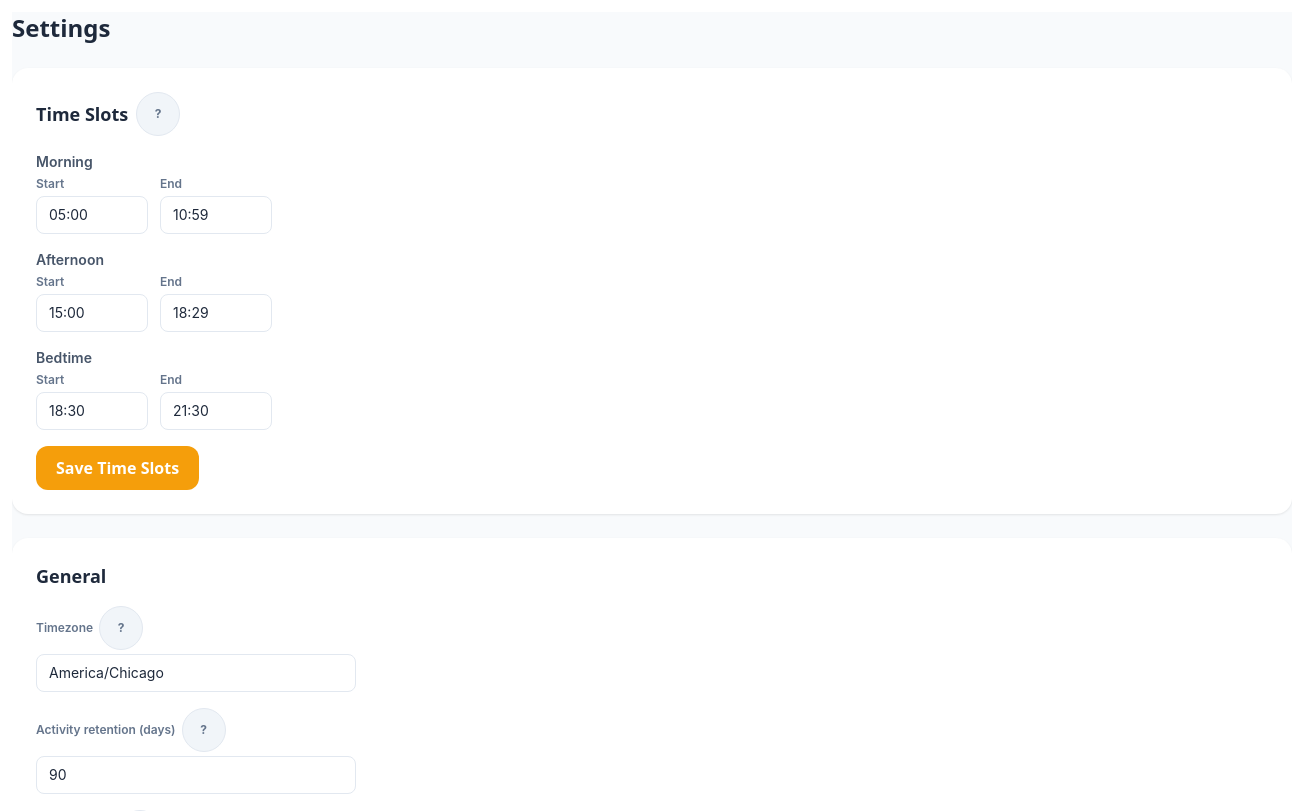
SettingsScreen › selects retention days value on focus so typing replaces it
Click the number field labelled "Activity retention (days)": x=196, y=775 left=36, top=756, right=356, bottom=794
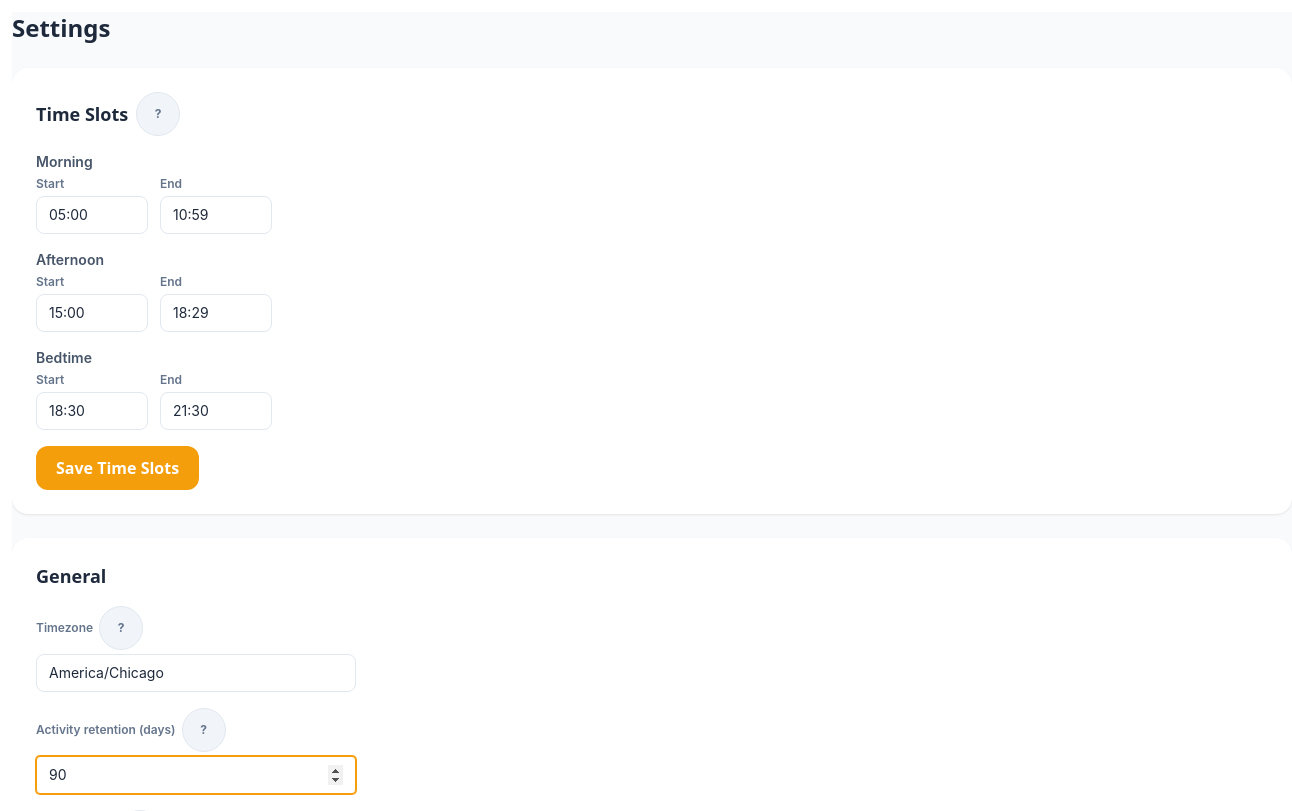
Type keys "30"
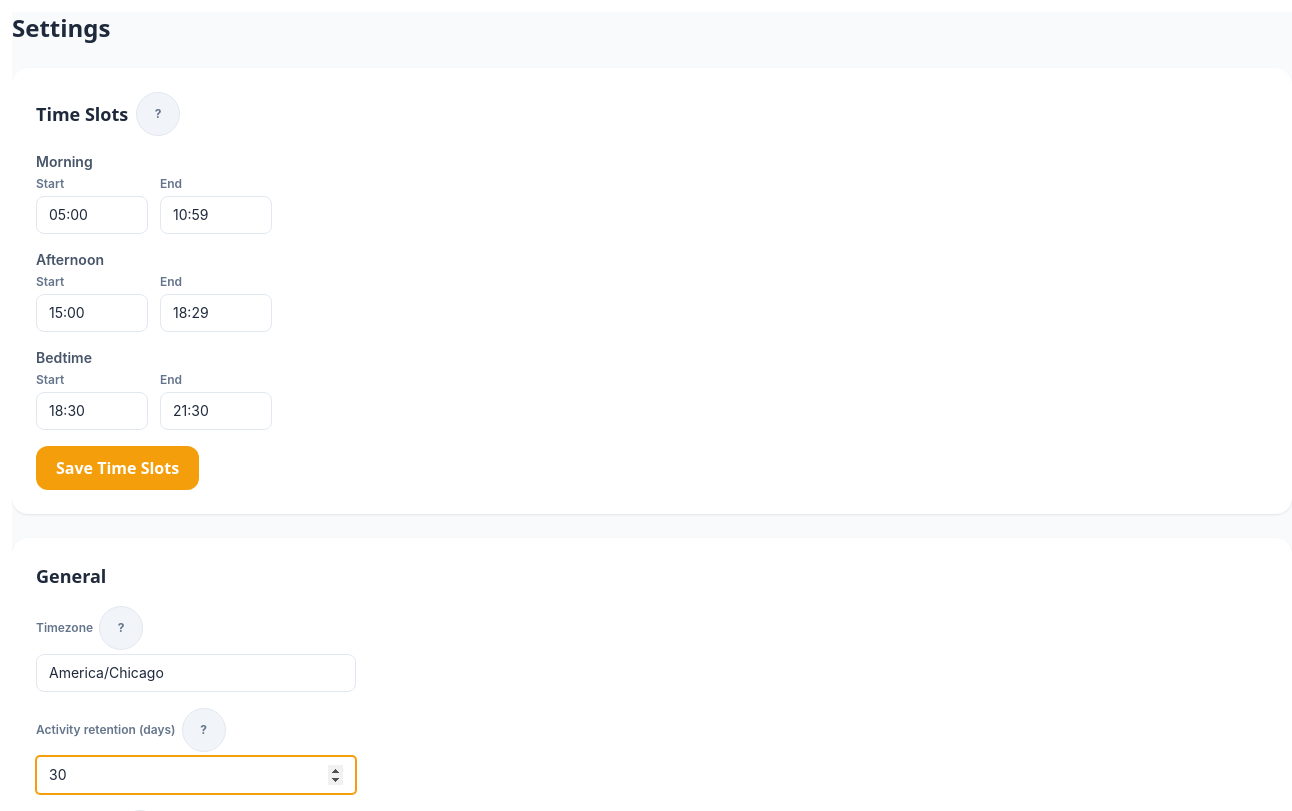
Expected: the number field labelled "Activity retention (days)" holds "30", left=36, top=756, right=356, bottom=794
